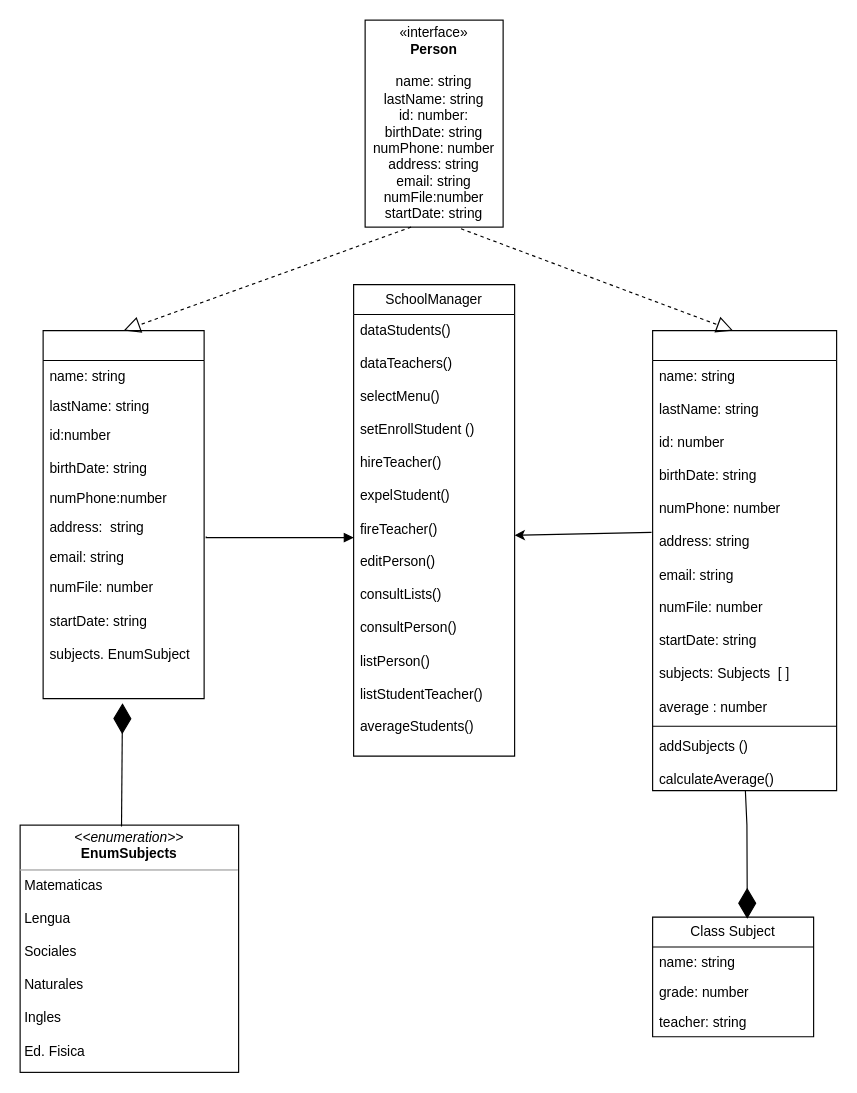
The diagram is 857 pixels wide and 1093 high, and some of its shapes have lost their labels. Each missing label, with the box of its shape:
Class Student: (651, 329, 837, 791)
Class Teacher: (42, 329, 204, 699)
